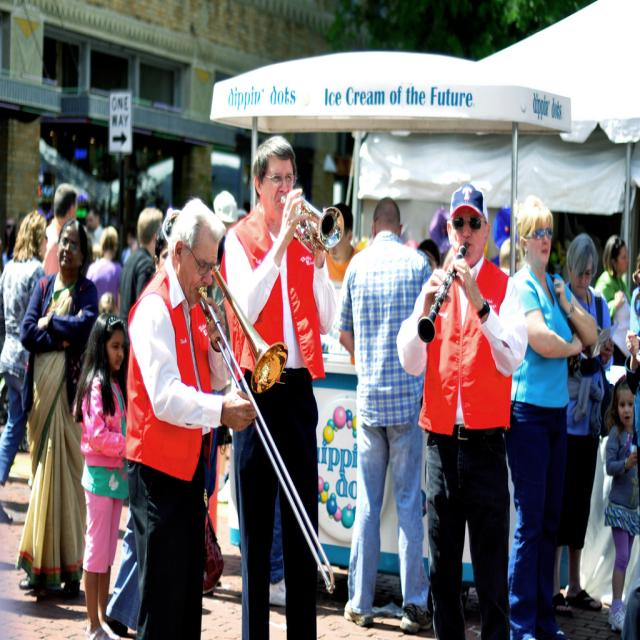clarinet: (417, 242, 469, 344)
